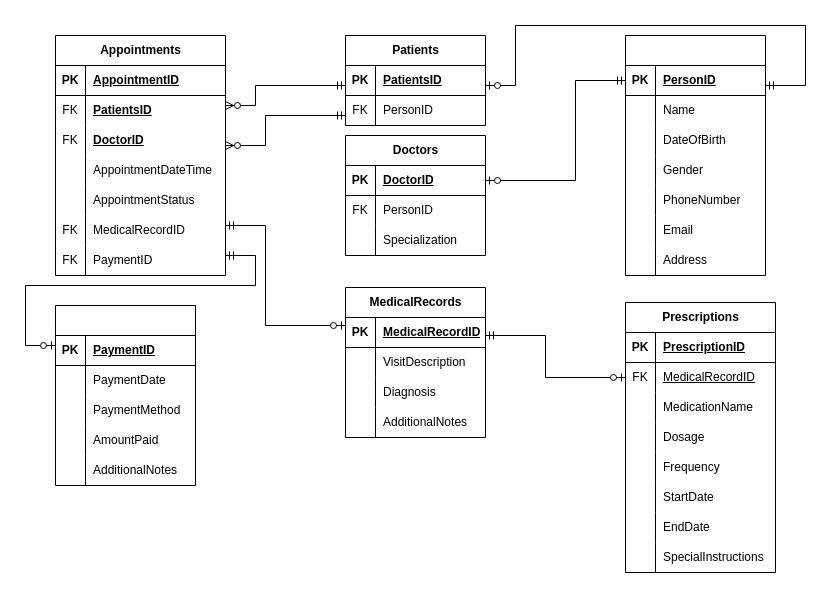
Some shapes in this 832 by 590 pixel diagram are drawn without their labels. The shapes that lost their labels are listed below. From the top down, each one's box as (x1, y1, x2, y2) in pixels, then its label:
(624, 34, 766, 276): Persons
(54, 304, 196, 486): Payments
